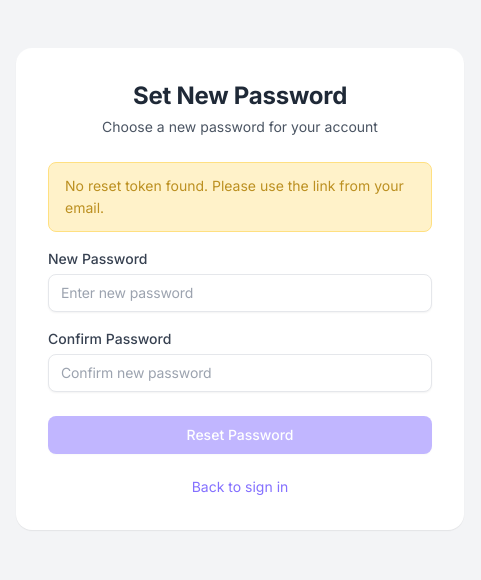
Scenario: ResetPasswordView › shows error when token is missing on submit
Type "newpassword" into the password field with id "reset-password" at [240, 293], box [48, 274, 432, 312]
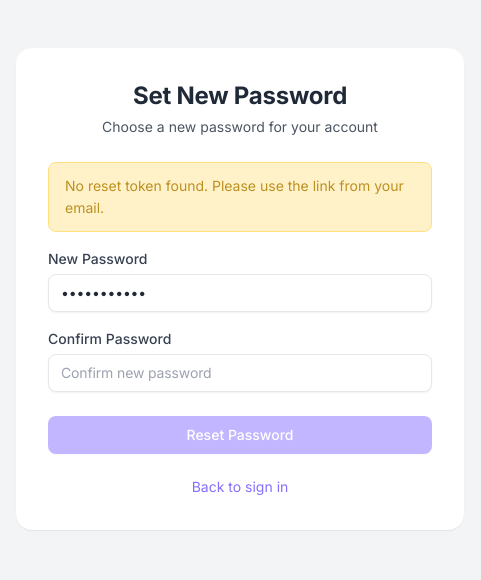
Type "newpassword" into the password field with id "reset-confirm" at [240, 373], box [48, 354, 432, 392]
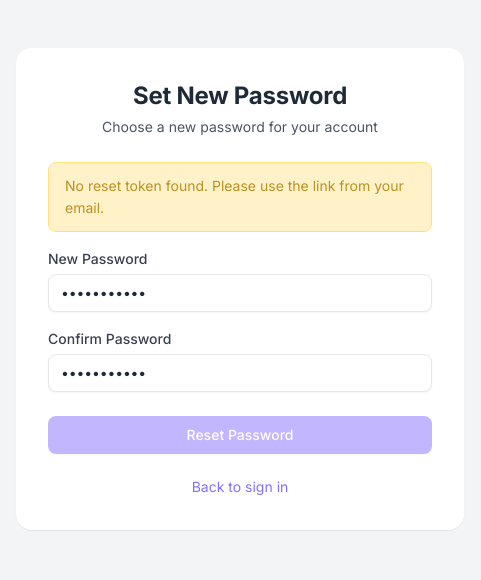
Submit the form, box [48, 248, 432, 454]
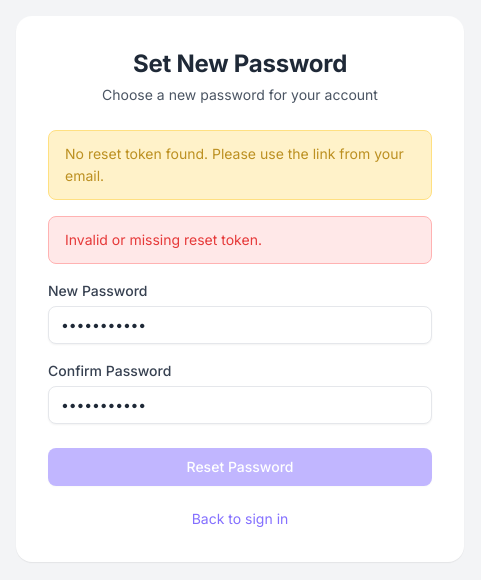
Result: the text "Invalid or missing reset token" is shown at [65, 231, 262, 248]
